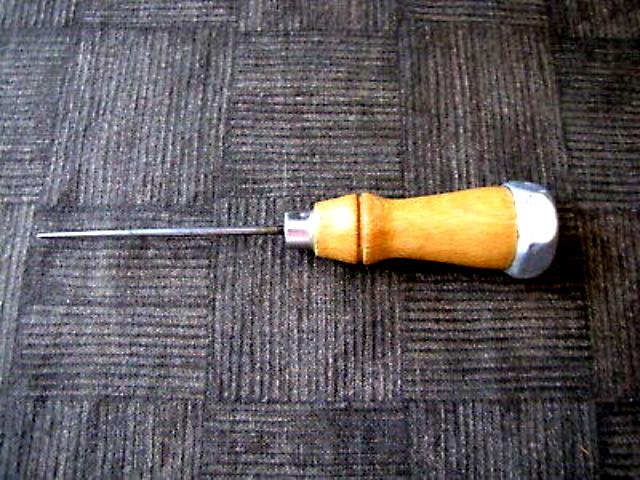ice pick: (37, 181, 560, 280)
